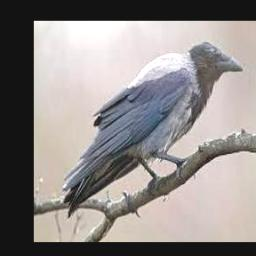Crow: (62, 41, 244, 217)
